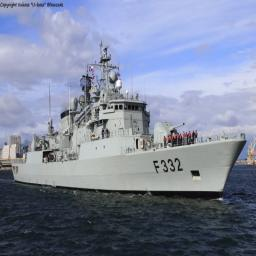Fragata: (8, 40, 249, 204)
